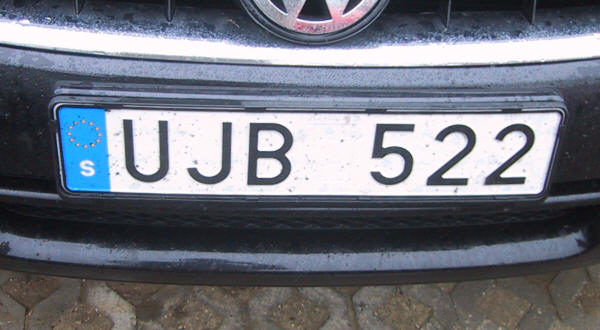license_plate: (54, 103, 564, 198)
